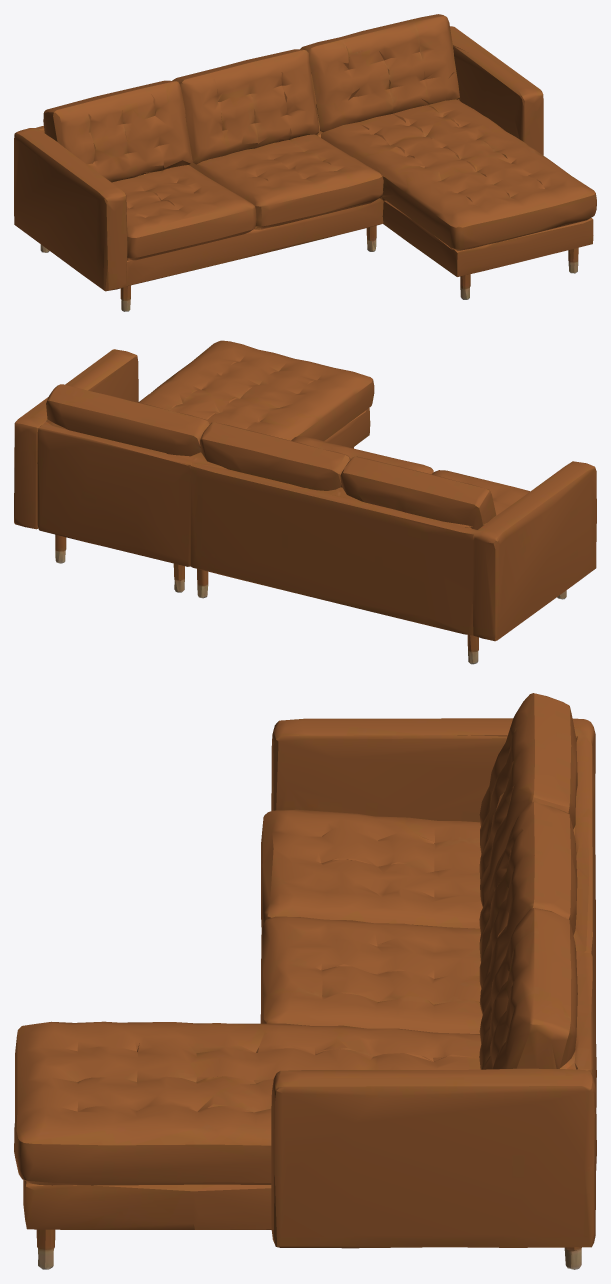
File: 10 - LANDSKRONA - 三人座沙發，含躺椅GrannBomstad 金棕色木頭 IKEA 線上購物.glb
3 views of the same model, one above another, from view 1: azimuth 30°, elevation 25°; view 2: azimuth 150°, elevation 25°; view 3: azimuth 270°, elevation 25° (orthographic). The views are drawn at different scales.
Visible parts, largest first — view 1: ProcessedMeshNode; view 2: ProcessedMeshNode; view 3: ProcessedMeshNode.
Boxes of the visible parts, bbox=[...] form: ProcessedMeshNode: bbox=[14, 14, 596, 311]; ProcessedMeshNode: bbox=[14, 340, 596, 664]; ProcessedMeshNode: bbox=[14, 693, 596, 1269].
Size of the model in its own units: 2.41 by 0.7836 by 1.59.
1 material, 1 textured.
